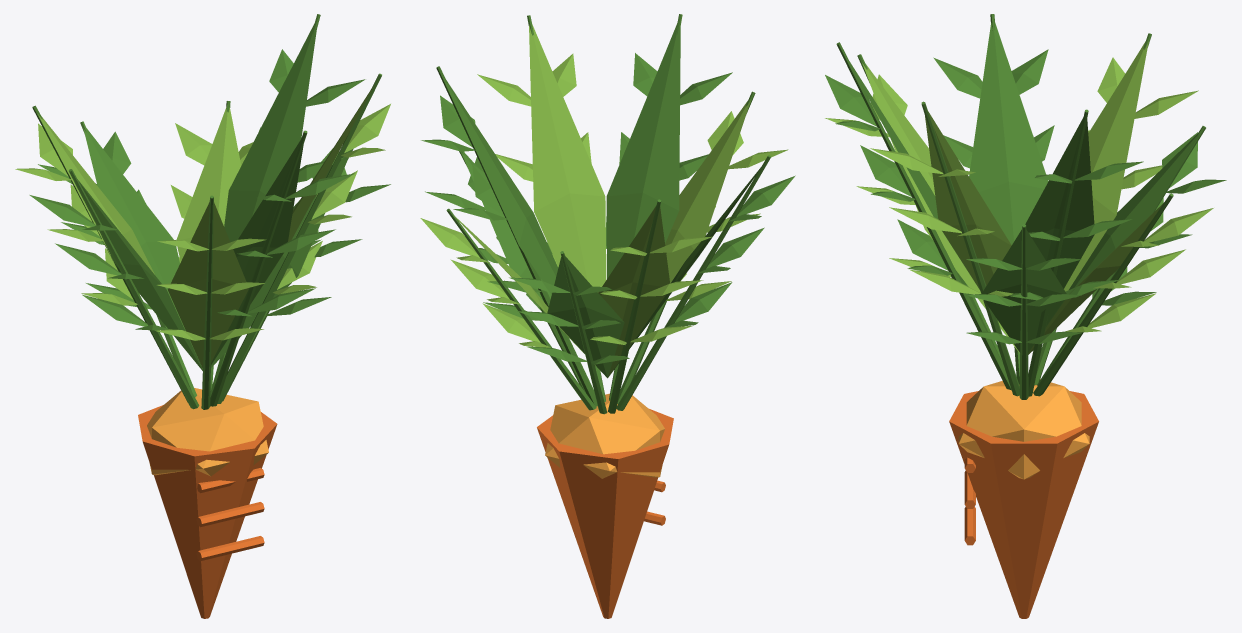
File: carrot_stage_3.glb
3 views of the same model, side by side, from view 1: azimuth 30°, elevation 25°; view 2: azimuth 150°, elevation 25°; view 3: azimuth 270°, elevation 25° (orthographic). The views are drawn at different scales.
Visible parts, largest first — view 1: carrot_stage_3_Mesh; view 2: carrot_stage_3_Mesh; view 3: carrot_stage_3_Mesh.
Boxes of the visible parts, bbox=[...] form: carrot_stage_3_Mesh: bbox=[15, 14, 390, 618]; carrot_stage_3_Mesh: bbox=[420, 14, 795, 618]; carrot_stage_3_Mesh: bbox=[825, 14, 1226, 618].
Bounding box in the file's own units: 0.58 × 0.9163 × 0.5769.
